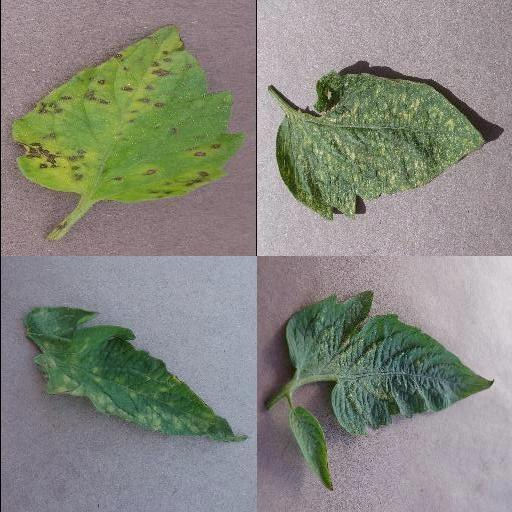Leaf Mold: (22, 304, 246, 444)
Septoria: (11, 22, 245, 204)
Spider Mites: (273, 70, 487, 220), (284, 289, 494, 437)
